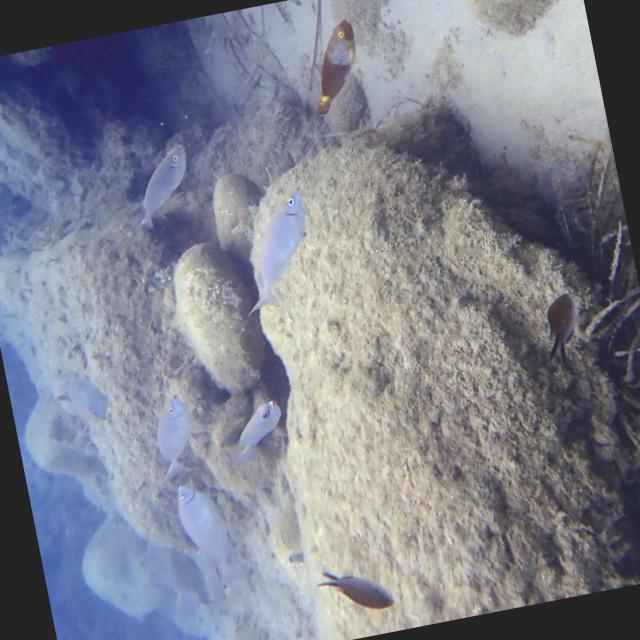Sokar Baligi: (212, 180, 339, 328), (164, 470, 266, 607), (104, 122, 210, 250), (38, 352, 123, 436)
